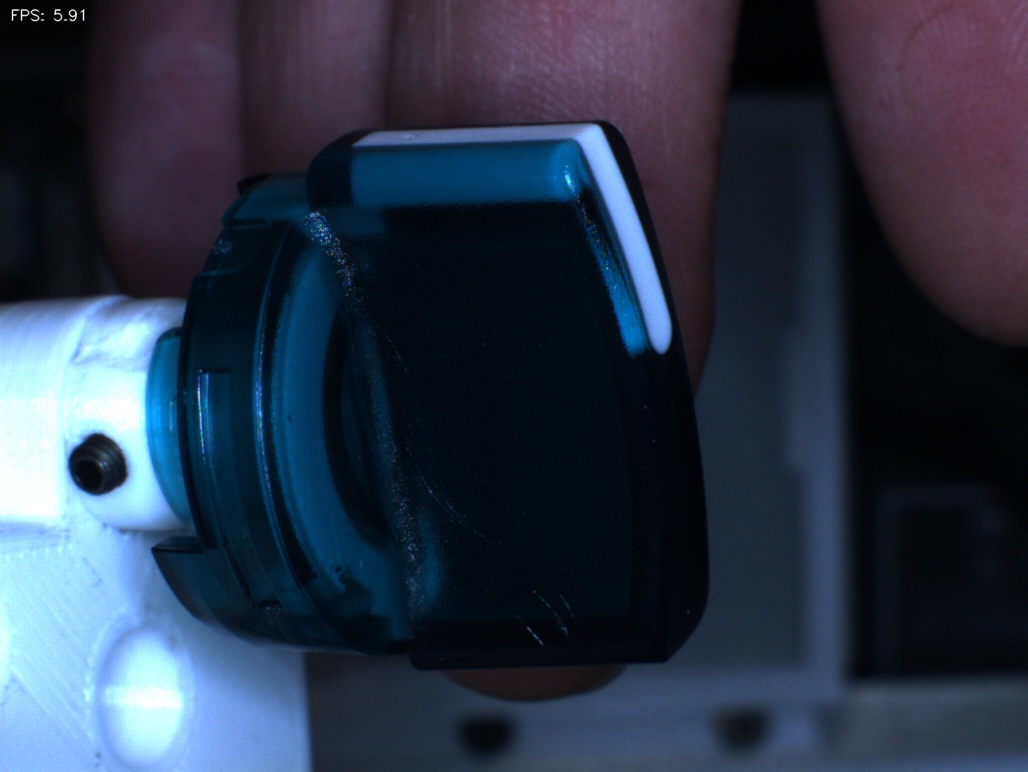Givrage: (379, 315, 487, 535), (478, 547, 591, 652)
